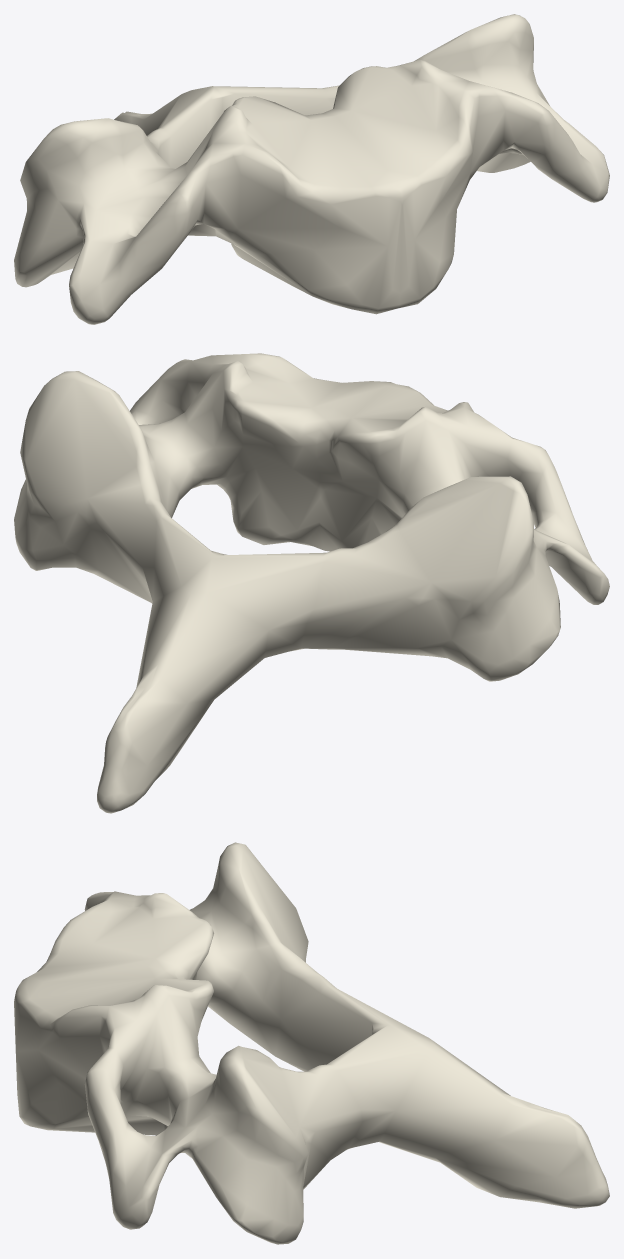
3 views of the same model, one above another, from view 1: azimuth 30°, elevation 25°; view 2: azimuth 150°, elevation 25°; view 3: azimuth 270°, elevation 25° (orthographic).
Visible parts, largest first — view 1: ZA_3e0eee8778a5f234; view 2: ZA_3e0eee8778a5f234; view 3: ZA_3e0eee8778a5f234.
Boxes of the visible parts, x1,y1,x2,y2 form: ZA_3e0eee8778a5f234: [14, 14, 609, 324]; ZA_3e0eee8778a5f234: [14, 353, 609, 813]; ZA_3e0eee8778a5f234: [14, 842, 609, 1244].
Bounding box in the file's own units: 0.0565 × 0.0267 × 0.0542.
